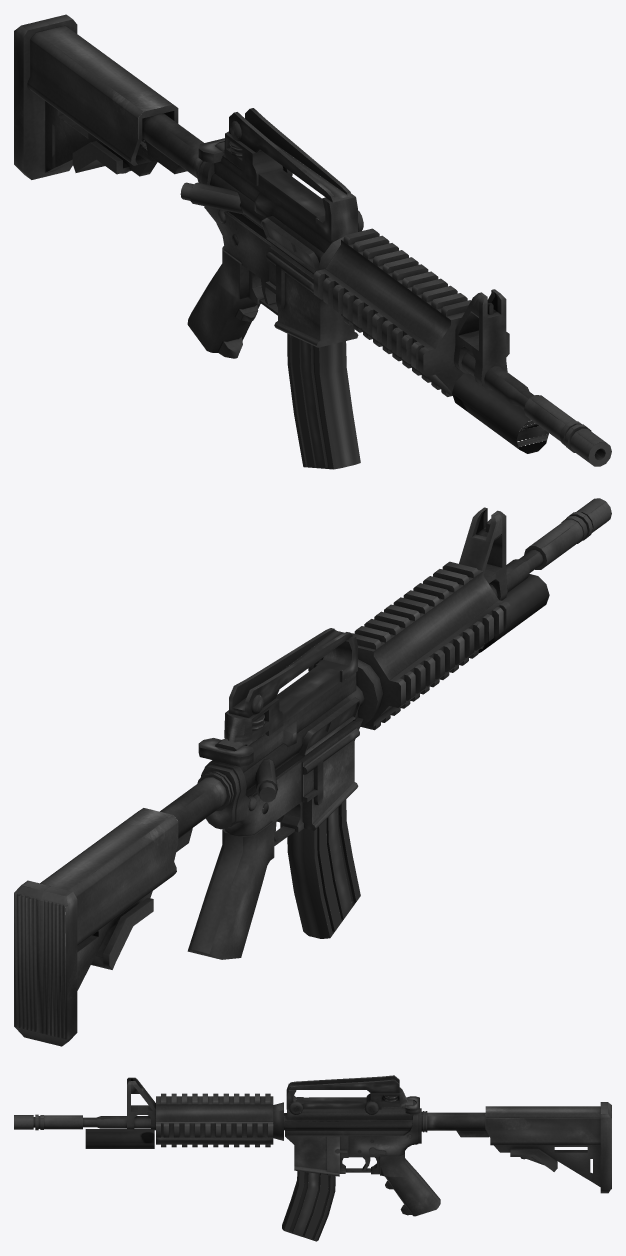
File: m4_item.FBX
The picture shows the model from 3 angles, top to bottom: view 1: azimuth 30°, elevation 25°; view 2: azimuth 150°, elevation 25°; view 3: azimuth 270°, elevation 25°; orthographic projection. The views are drawn at different scales.
Parts seen in each view (by area): view 1: M4A1_Sopmod_Body; view 2: M4A1_Sopmod_Body; view 3: M4A1_Sopmod_Body.
Part boxes in pixels (x1,y1,x2,y2): M4A1_Sopmod_Body: (14,14,611,469); M4A1_Sopmod_Body: (14,498,611,1046); M4A1_Sopmod_Body: (14,1075,611,1241).
Bounding box in the file's own units: 0.0393 × 0.1254 × 0.4226.
